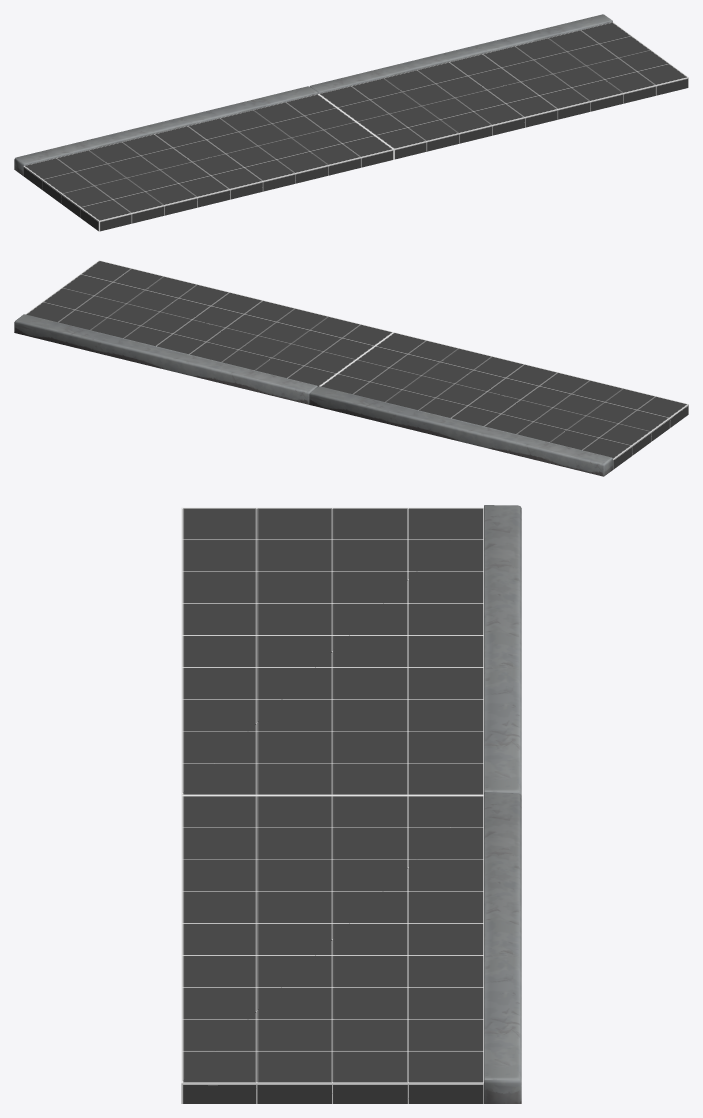
Rendered from M02SideWalk03_10.FBX.
The picture shows the model from 3 angles, top to bottom: view 1: azimuth 30°, elevation 25°; view 2: azimuth 150°, elevation 25°; view 3: azimuth 270°, elevation 25°; orthographic projection. The views are drawn at different scales.
Parts seen in each view (by area): view 1: M02SideWalk03_10; view 2: M02SideWalk03_10; view 3: M02SideWalk03_10.
Boxes of the visible parts, x1,y1,x2,y2 form: M02SideWalk03_10: (14, 14, 688, 231); M02SideWalk03_10: (14, 260, 688, 476); M02SideWalk03_10: (181, 505, 521, 1103).
Size of what is drawn, in the model's own units: 9 by 0.1783 by 2.25.
